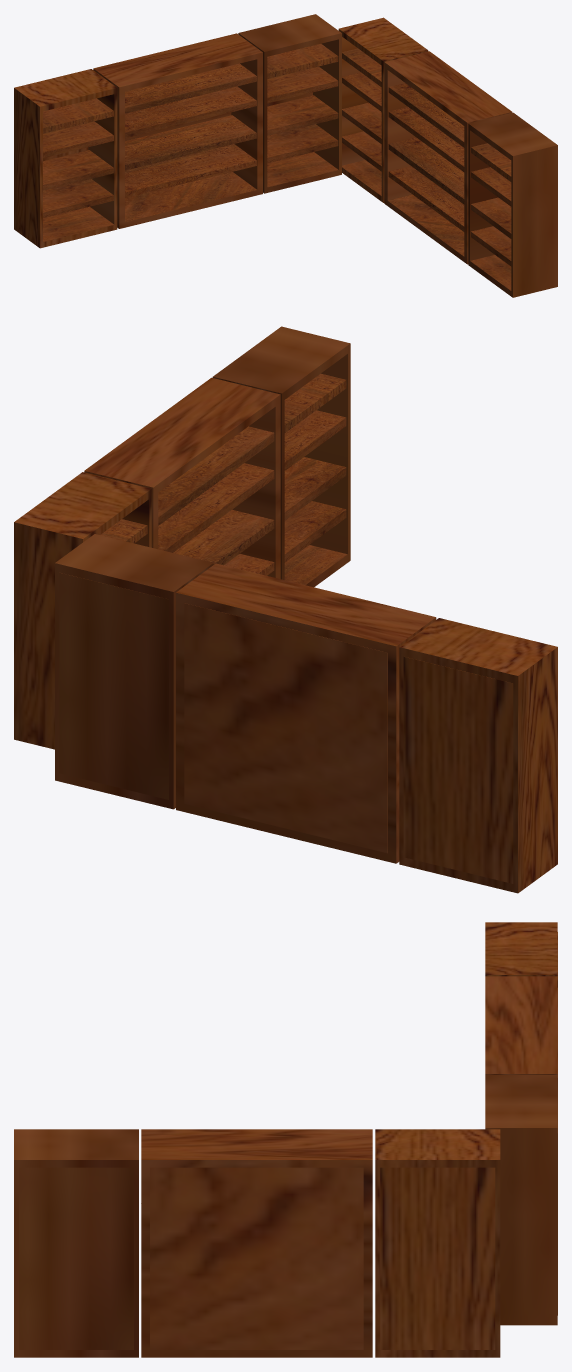
The model's file is shelves.fbx.
The picture shows the model from 3 angles, top to bottom: view 1: azimuth 30°, elevation 25°; view 2: azimuth 150°, elevation 25°; view 3: azimuth 270°, elevation 25°; orthographic projection. The views are drawn at different scales.
Parts seen in each view (by area): view 1: shelf2, shelf1, shelf2.001, shelf3.001, shelf3, shelf1.001; view 2: shelf2, shelf1, shelf3, shelf2.001, shelf3.001, shelf1.001; view 3: shelf2.001, shelf1.001, shelf3.001, shelf3, shelf2, shelf1.
Part boxes in pixels (left/top/right/bottom): shelf2: left=93, top=33, right=262, bottom=228; shelf1: left=14, top=69, right=117, bottom=248; shelf2.001: left=384, top=51, right=512, bottom=264; shelf3.001: left=468, top=112, right=557, bottom=297; shelf3: left=238, top=14, right=341, bottom=193; shelf1.001: left=338, top=17, right=428, bottom=202; shelf2: left=176, top=563, right=436, bottom=863; shelf1: left=399, top=618, right=557, bottom=893; shelf3: left=55, top=534, right=213, bottom=809; shelf2.001: left=84, top=377, right=280, bottom=578; shelf3.001: left=212, top=326, right=350, bottom=587; shelf1.001: left=14, top=472, right=151, bottom=749; shelf2.001: left=141, top=1129, right=372, bottom=1357; shelf1.001: left=375, top=1129, right=500, bottom=1357; shelf3.001: left=14, top=1129, right=138, bottom=1357; shelf3: left=485, top=1075, right=557, bottom=1325; shelf2: left=485, top=976, right=557, bottom=1084; shelf1: left=485, top=922, right=557, bottom=987.
Bounding box in the file's own units: 1464 × 567 × 1416.
